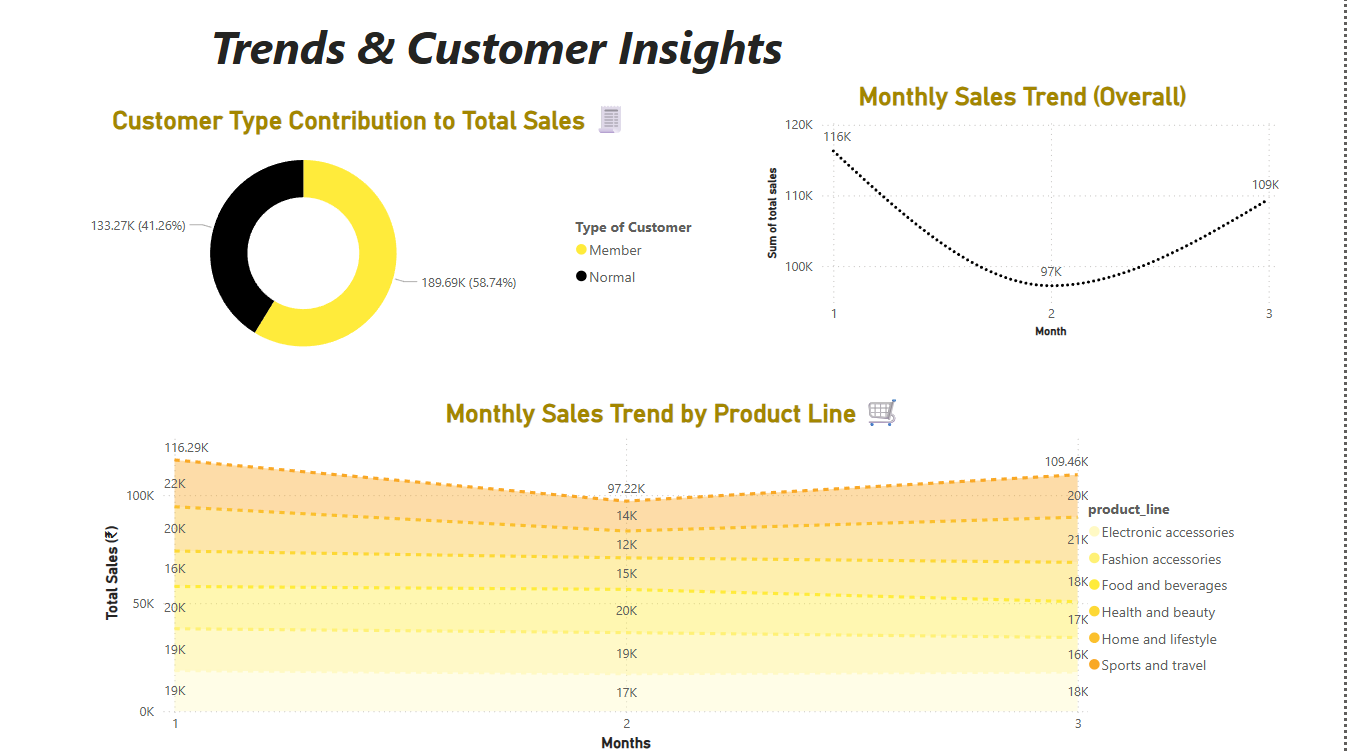

The page's visual inventory and layout, read from the dashboard file:
{"tool":"powerbi","page":{"name":"Dashboard 2","canvas":[1280,720],"ordinal":1},"visuals":[{"type":"lineChart","title":"Monthly Sales Trend (Overall)","fields":{"Y":["Sum(Cleaned_Supermarket_Data.total_sales)"],"Category":["Cleaned_Supermarket_Data.month"]},"box":[673.3,12.2,337.8,248.9],"z":0},{"type":"stackedAreaChart","title":"Monthly Sales Trend by Product Line 🛒","fields":{"Category":["Cleaned_Supermarket_Data.month"],"Y":["Sum(Cleaned_Supermarket_Data.total_sales)"],"Series":["Cleaned_Supermarket_Data.product_line"]},"box":[15.6,12.2,612.2,297.8],"z":1},{"type":"donutChart","title":"Customer Type Contribution to Total Sales 🧾","fields":{"Category":["Cleaned_Supermarket_Data.customer_type"],"Y":["Sum(Cleaned_Supermarket_Data.total_sales)"]},"box":[16,320,612,298],"z":2}]}

Visuals, with their boxes in screenshot pixels (x1, y1, x2, y2), scaled from the page's 1280x720 canvas onto the 1356x753 screenshot:
"Monthly Sales Trend (Overall)" lineChart: x1=713, y1=13, x2=1071, y2=273
"Monthly Sales Trend by Product Line 🛒" stackedAreaChart: x1=17, y1=13, x2=665, y2=324
"Customer Type Contribution to Total Sales 🧾" donutChart: x1=17, y1=335, x2=665, y2=646
